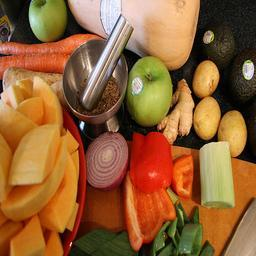apple: (124, 55, 172, 126), (27, 0, 68, 43)
